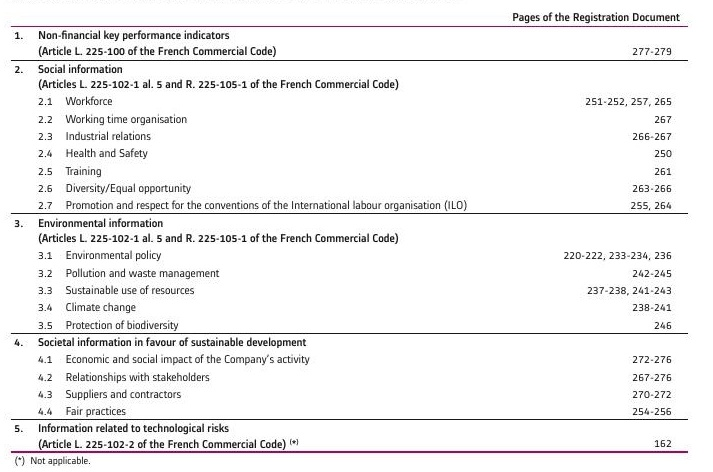table: (0, 0, 713, 472)
